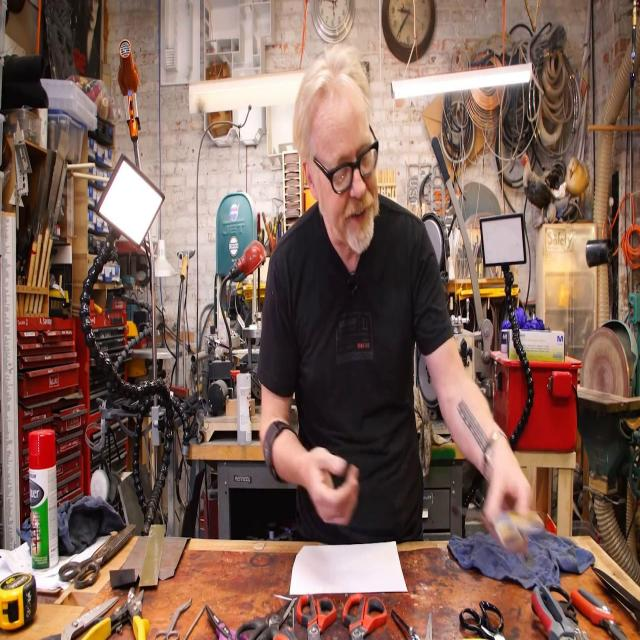scissor: (59, 523, 137, 591), (236, 598, 294, 640), (342, 594, 386, 640), (297, 594, 337, 640), (459, 601, 504, 640)
